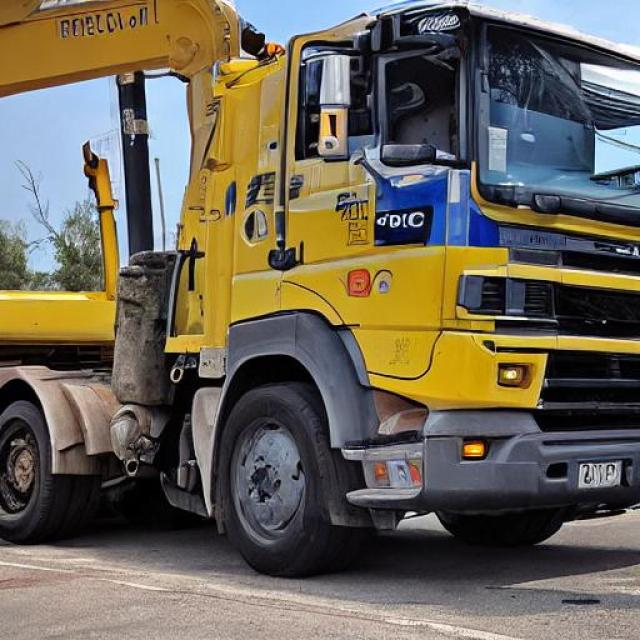truck: (339, 0, 574, 241), (516, 128, 640, 196)
